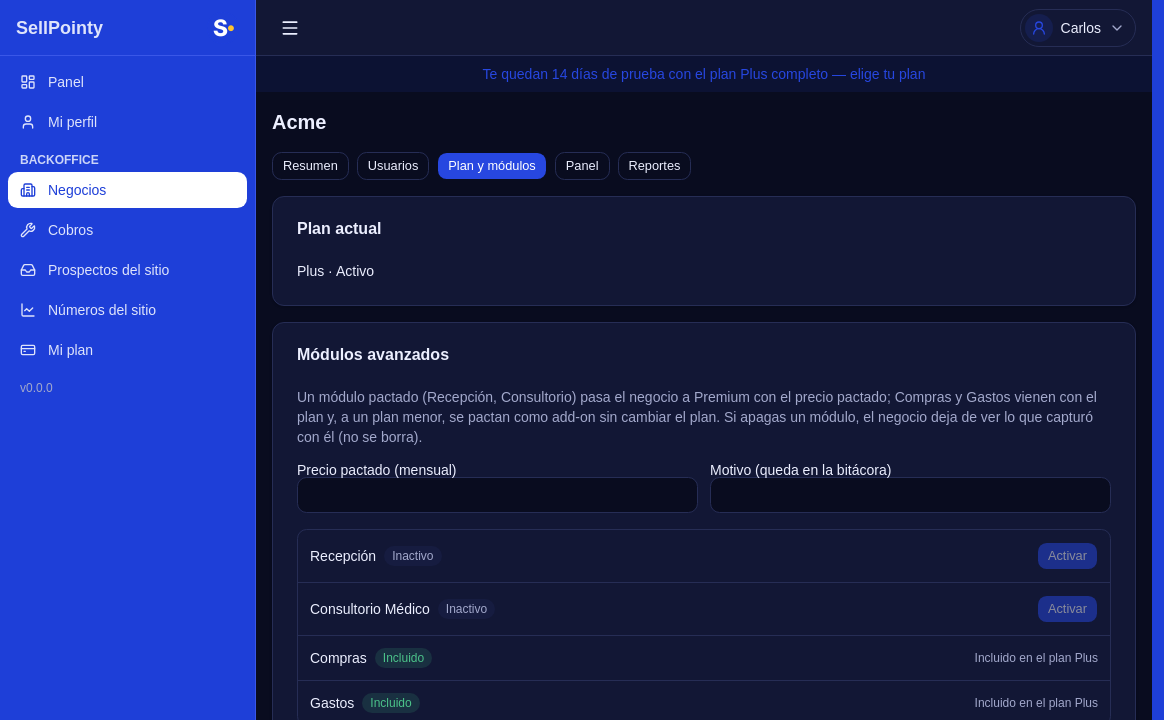
Test: el expediente (F9-ADMIN-07..11) › Plan y módulos: activar exige motivo y manda el precio pactado; el 422 se ve
Check: the 1st button "Activar" is disabled, box [1037,542,1098,570]
Step 1. Type "deal VIP" into the field labelled "Motivo (queda en la bitácora)" → {"x": 910, "y": 495}, box [710,477,1111,513]
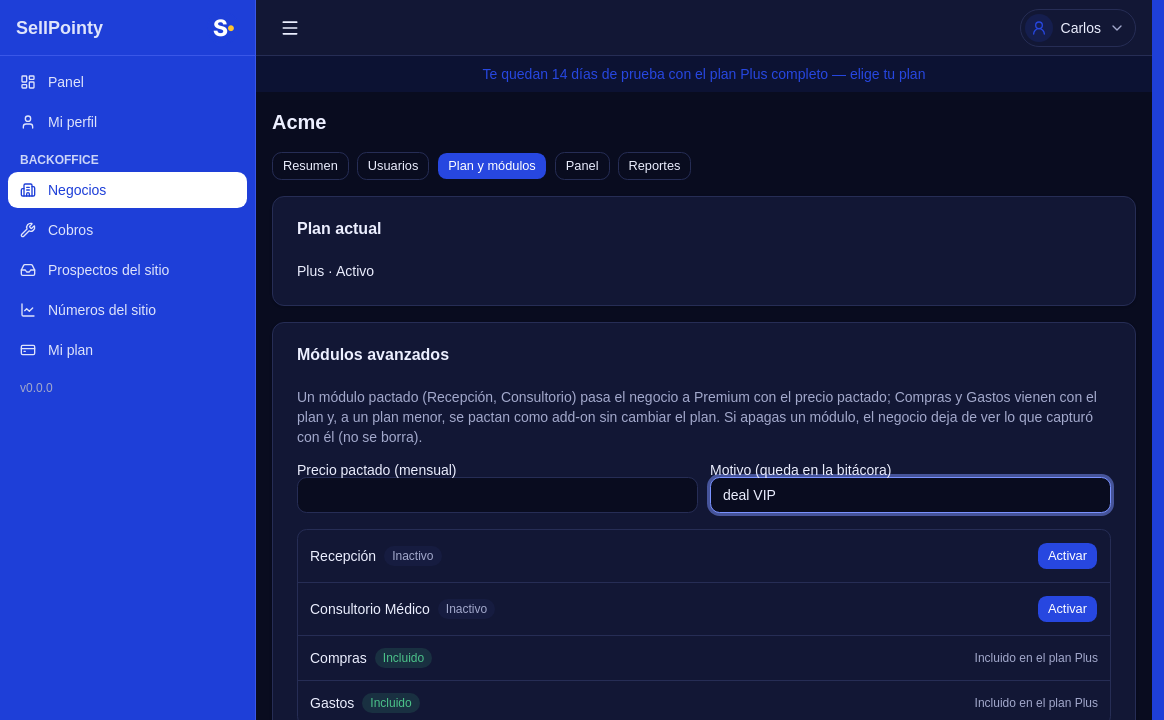
Step 2. Type "1250.00" into the field labelled "Precio pactado (mensual)" → {"x": 498, "y": 495}, box [297,477,698,513]
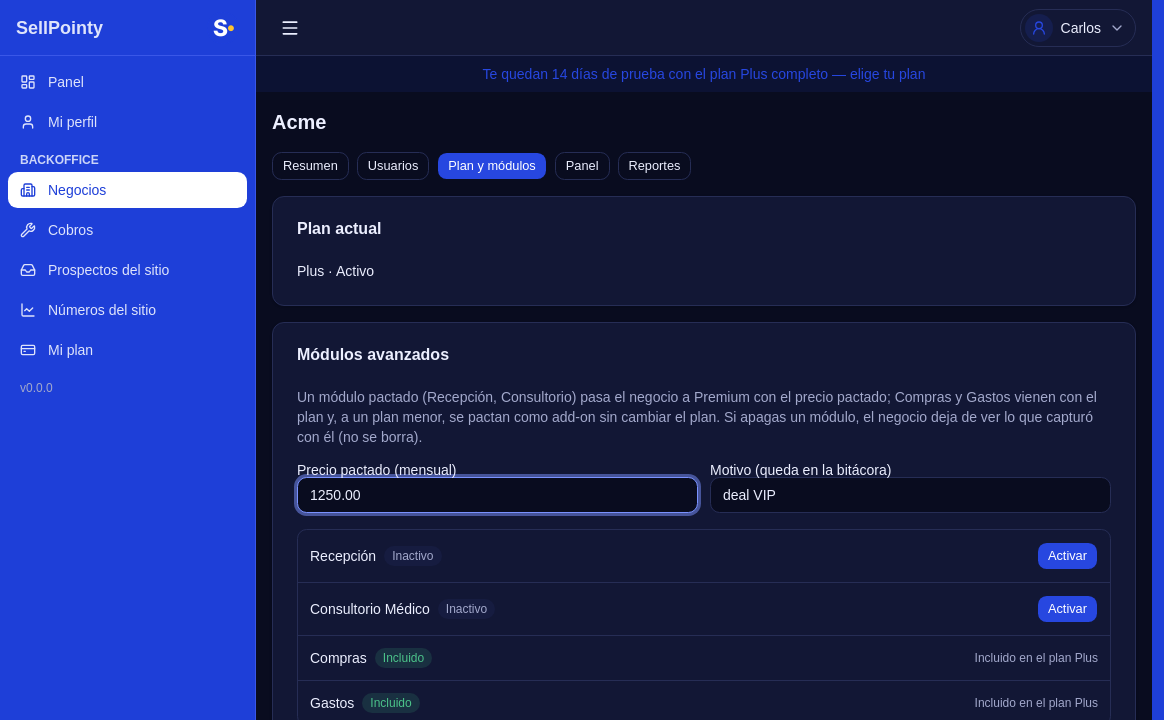
Step 3. Click the 1st button "Activar" → {"x": 1067, "y": 556}, box [1037,542,1098,570]
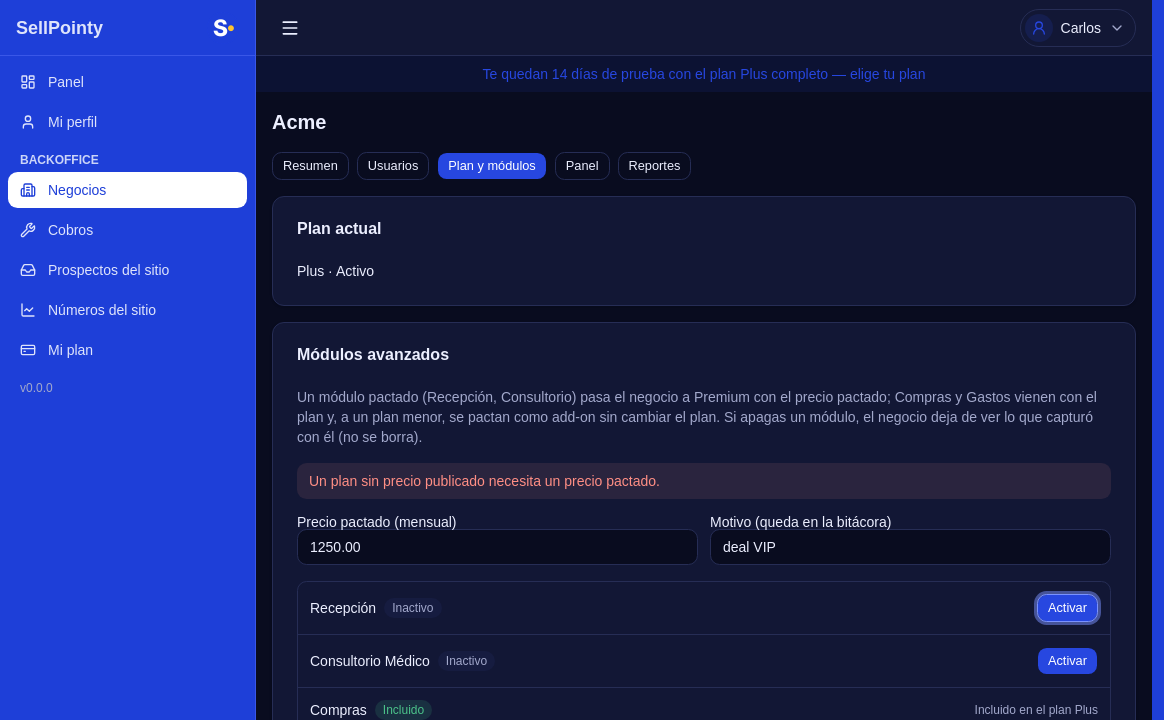
Check: the message shows "precio pactado", box [309,473,660,489]
